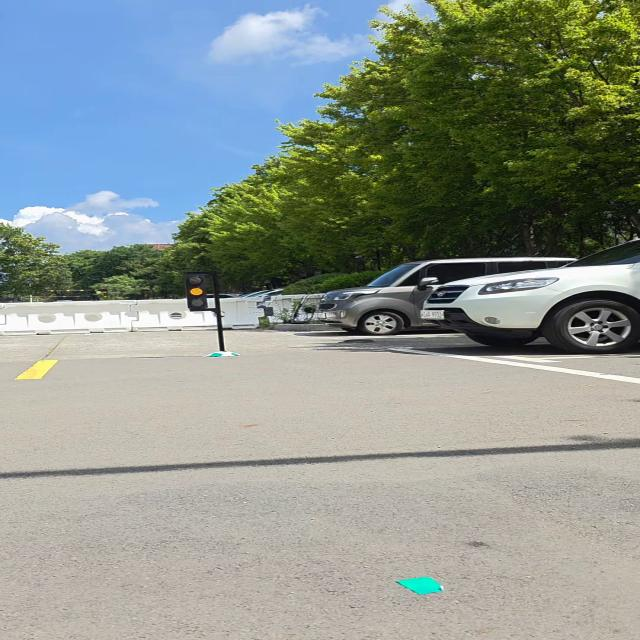yellow: (184, 274, 208, 310)
